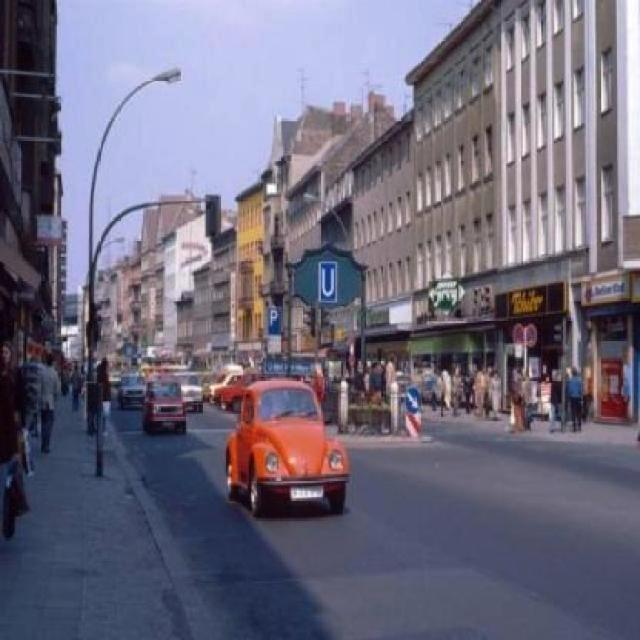car: (224, 374, 352, 516), (140, 377, 188, 426)
